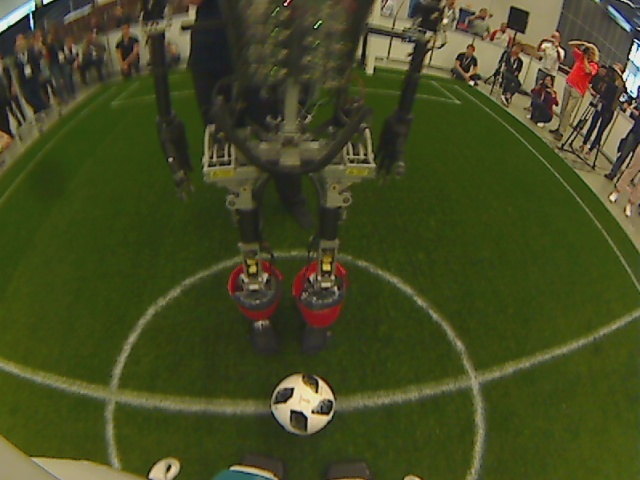ball: (269, 373, 337, 440)
goalpost: (360, 61, 379, 82)
robot: (223, 274, 361, 354)
